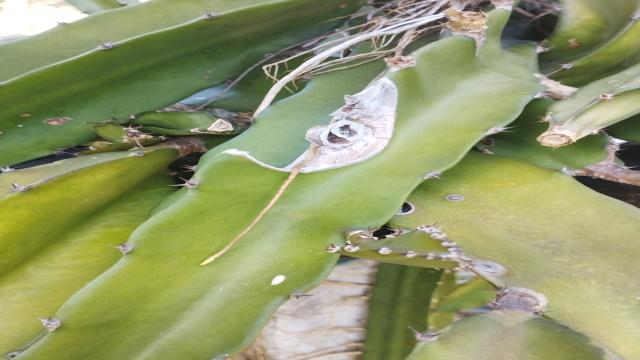stemcanker: (33, 112, 77, 130), (442, 189, 470, 208)
